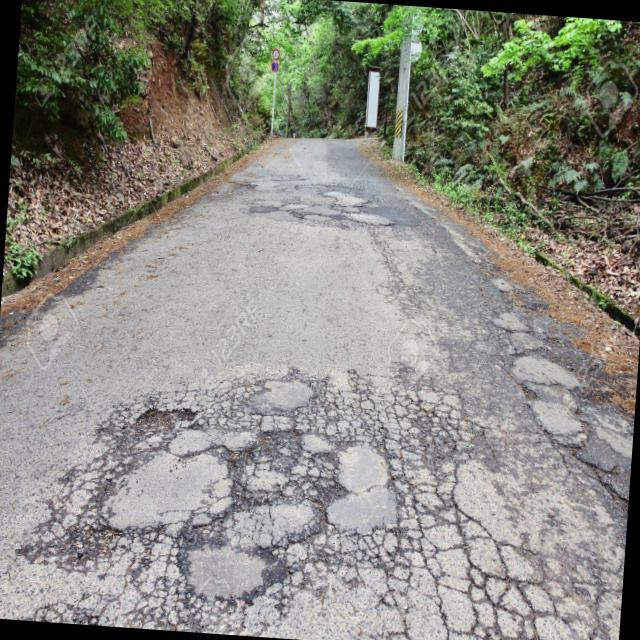Potholes: (76, 345, 467, 630), (121, 382, 231, 486)
